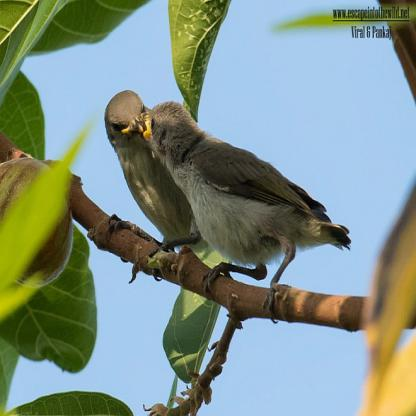Burung: (138, 98, 347, 312), (106, 87, 196, 252)
